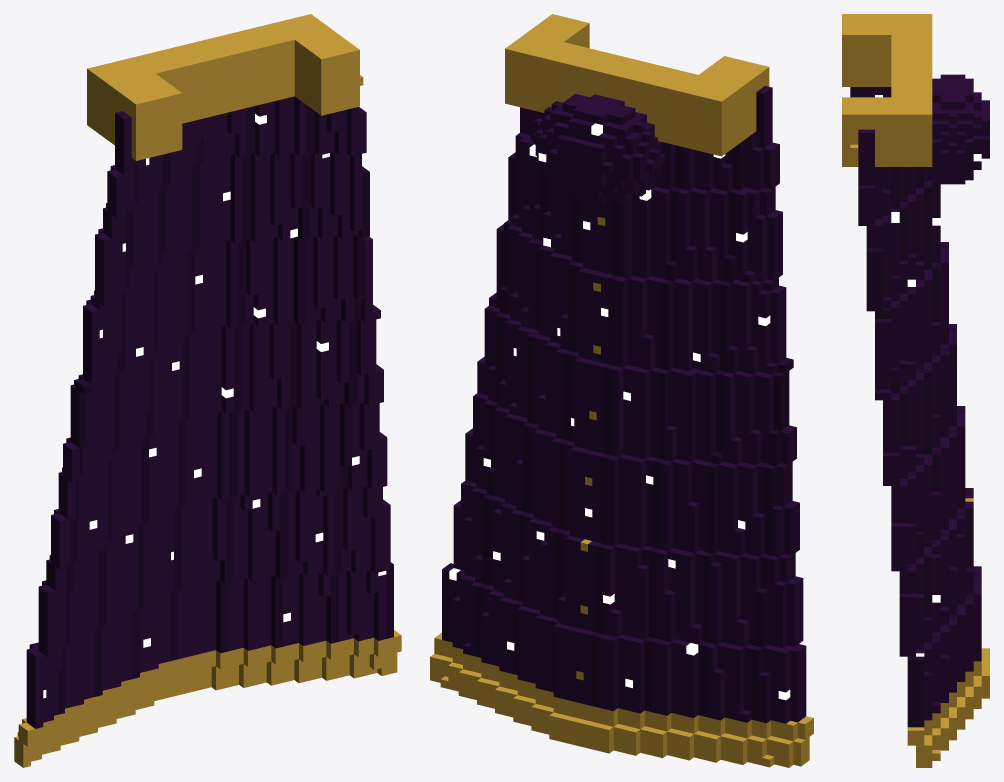
Rendered from mystic_epic_cloak.glb.
The picture shows the model from 3 angles, left to right: view 1: azimuth 30°, elevation 25°; view 2: azimuth 150°, elevation 25°; view 3: azimuth 270°, elevation 25°; orthographic projection. The views are drawn at different scales.
Parts seen in each view (by area): view 1: mystic_epic_cloak; view 2: mystic_epic_cloak; view 3: mystic_epic_cloak.
Part boxes in pixels (x1,y1,x2,y2): mystic_epic_cloak: [14, 14, 401, 767]; mystic_epic_cloak: [430, 14, 813, 767]; mystic_epic_cloak: [842, 14, 989, 767].
Bounding box in the file's own units: 0.588 × 0.996 × 0.216.
